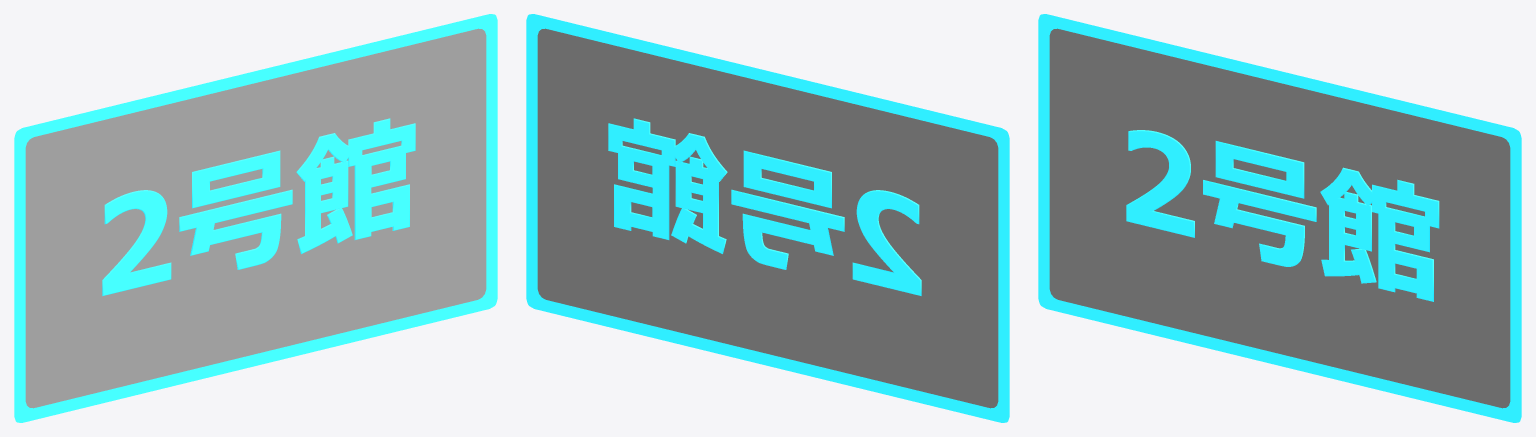
The model's file is TextPlate1.gltf.
3 renders of one model, left to right at view 1: azimuth 30°, elevation 25°; view 2: azimuth 150°, elevation 25°; view 3: azimuth 330°, elevation 25°, orthographic.
Visible parts, largest first — view 1: 平面, 2号館; view 2: 平面, 2号館; view 3: 平面, 2号館.
Part boxes in pixels (<box>): 平面: <box>14,14,497,422</box>; 2号館: <box>102,118,415,295</box>; 平面: <box>526,14,1009,422</box>; 2号館: <box>608,118,921,295</box>; 平面: <box>1038,14,1521,422</box>; 2号館: <box>1126,130,1439,301</box>.
Bounding box in the file's own units: 2.65 × 1.55 × 0.01.
